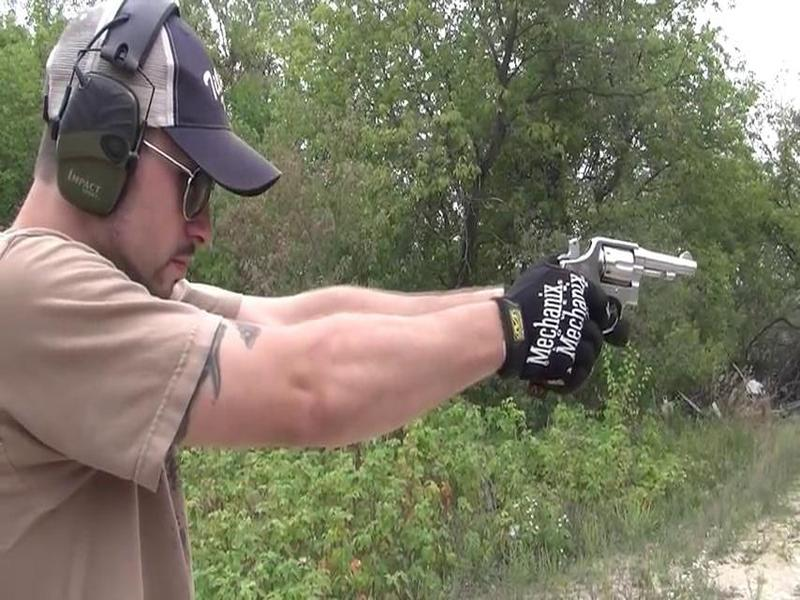Revolver: (549, 223, 714, 353)
